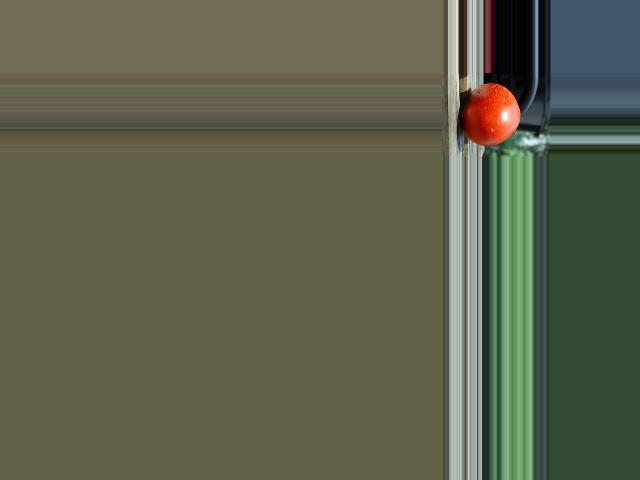tomato: (463, 83, 520, 146)
